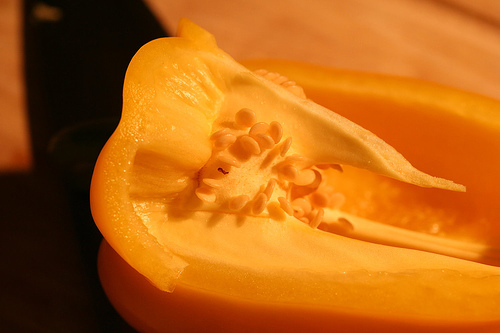capsicum: (89, 17, 498, 331)
